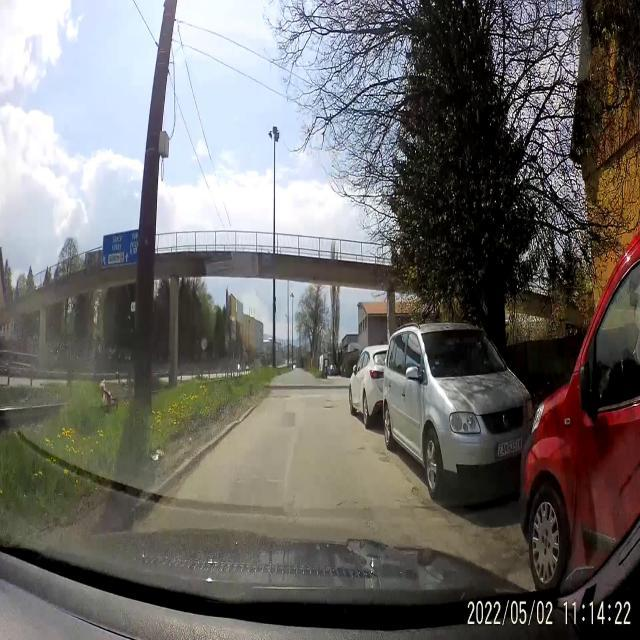Pothole: (319, 400, 342, 412), (334, 498, 350, 512), (409, 483, 420, 500)
